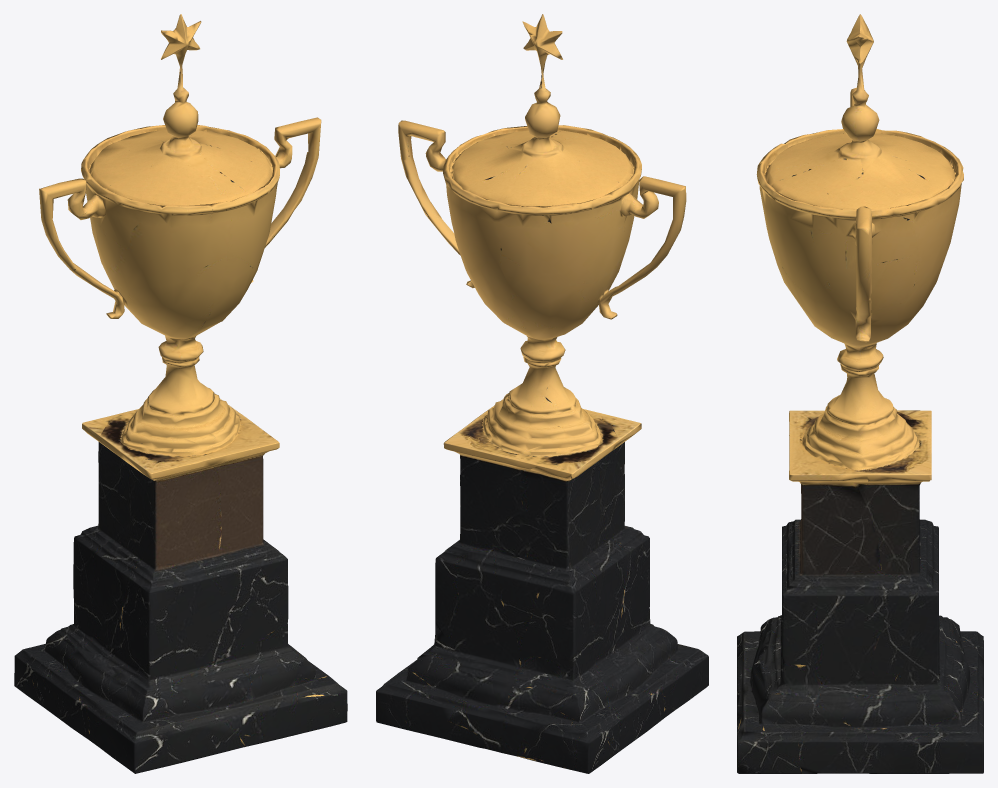
File: co_trophy.glb
3 renders of one model, left to right at view 1: azimuth 30°, elevation 25°; view 2: azimuth 150°, elevation 25°; view 3: azimuth 270°, elevation 25°, orthographic. The views are drawn at different scales.
Bounding box in the file's own units: 0.8116 × 1.9 × 0.6008.
1 material, 1 textured.
